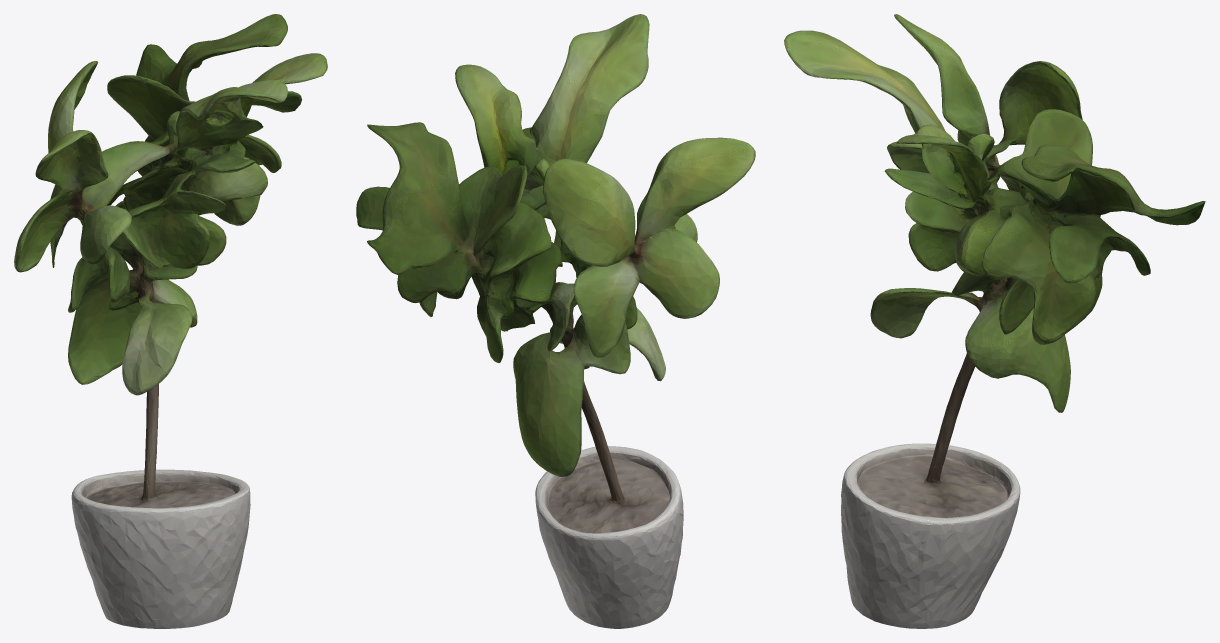
File: large_potted_fiddle_leaf_fig_plant_000.glb
3 renders of one model, left to right at view 1: azimuth 30°, elevation 25°; view 2: azimuth 150°, elevation 25°; view 3: azimuth 270°, elevation 25°, orthographic. The views are drawn at different scales.
Visible parts, largest first — view 1: large_potted_fiddle_leaf_fig_plant_000.obj; view 2: large_potted_fiddle_leaf_fig_plant_000.obj; view 3: large_potted_fiddle_leaf_fig_plant_000.obj.
Part boxes in pixels (bbox=[...]): large_potted_fiddle_leaf_fig_plant_000.obj: bbox=[14, 14, 327, 628]; large_potted_fiddle_leaf_fig_plant_000.obj: bbox=[356, 14, 755, 628]; large_potted_fiddle_leaf_fig_plant_000.obj: bbox=[784, 14, 1205, 628].
Bounding box in the file's own units: 0.7122 × 1.13 × 0.7288.
1 material, 1 textured.
